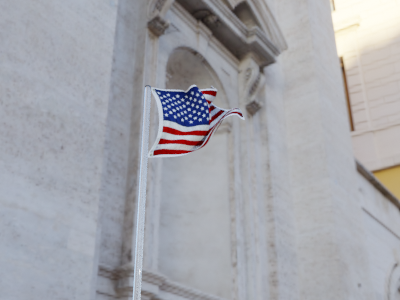America flag: (148, 84, 245, 156)
